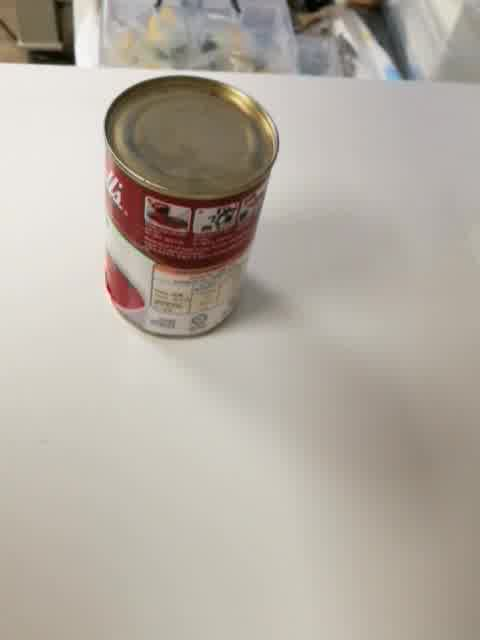tomatosoup: (101, 74, 282, 342)
